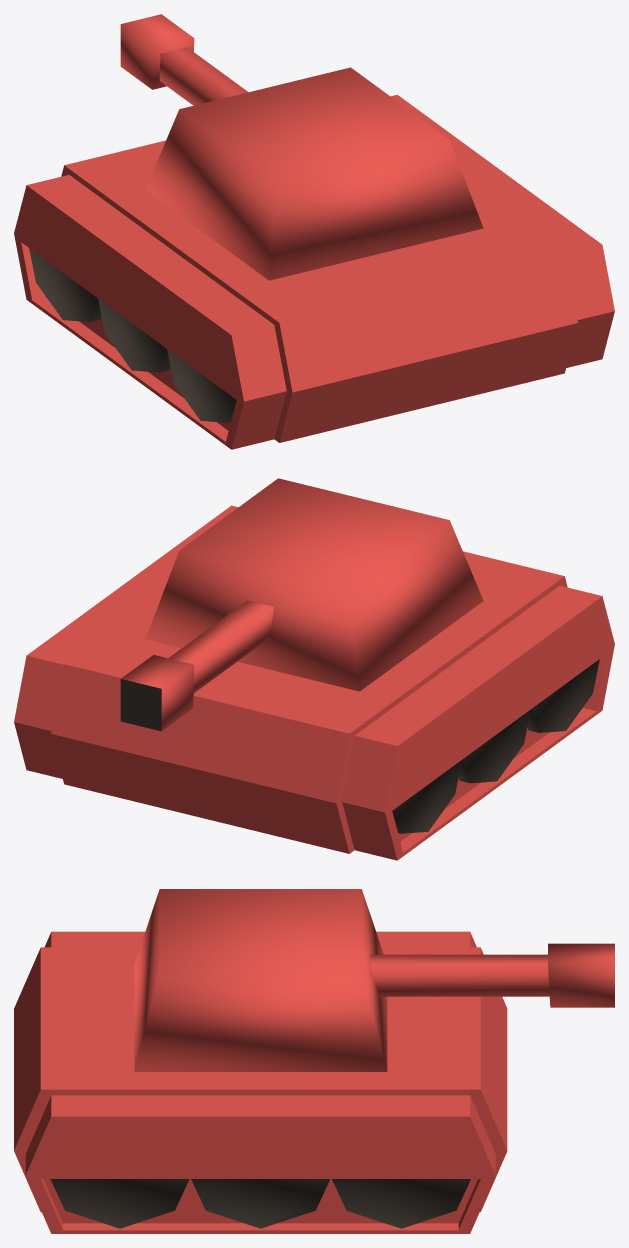
File: PlayerTank.glb
3 views of the same model, one above another, from view 1: azimuth 30°, elevation 25°; view 2: azimuth 150°, elevation 25°; view 3: azimuth 270°, elevation 25° (orthographic). The views are drawn at different scales.
Parts seen in each view (by area): view 1: Body, Tracks, Head, Barrel; view 2: Body, Tracks, Head, Barrel; view 3: Tracks, Head, Body, Barrel.
Boxes of the visible parts, box(x1,y1,x2,y2) form: Body: box(61, 140, 577, 442); Tracks: box(14, 94, 614, 449); Head: box(145, 67, 483, 280); Barrel: box(120, 14, 248, 105); Body: box(51, 551, 567, 853); Tracks: box(14, 505, 614, 860); Head: box(145, 478, 483, 691); Barrel: box(120, 600, 273, 731); Tracks: box(25, 931, 495, 1233); Head: box(134, 889, 387, 1071); Body: box(14, 947, 507, 1212); Barrel: box(370, 943, 614, 1007).
Size of the model in its own units: 0.3384 by 0.1786 by 0.4647.
